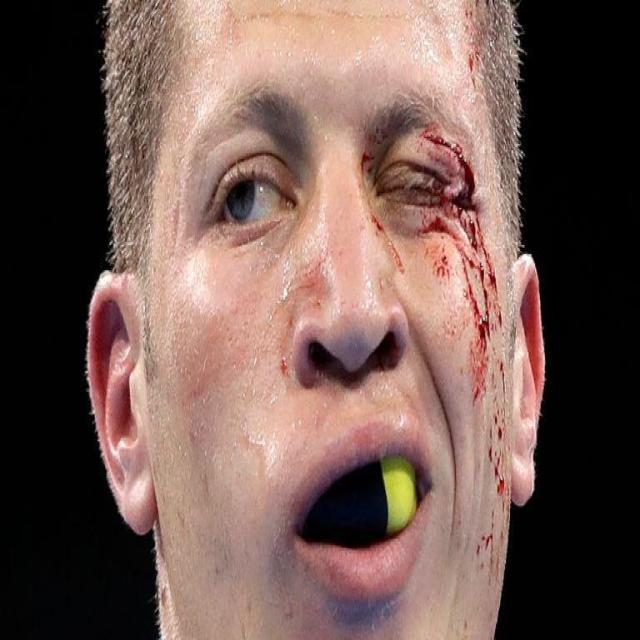flood: (409, 135, 521, 564)
